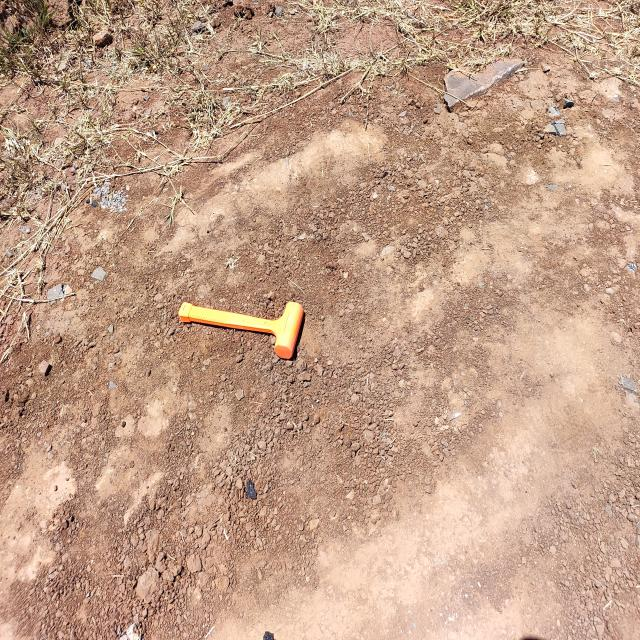Orange_hammer: (178, 299, 304, 360)
